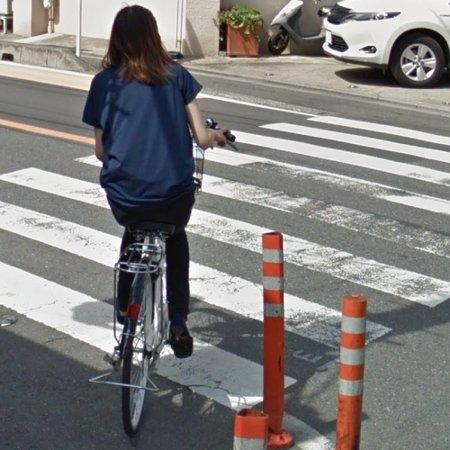crosswalks: (1, 114, 450, 450)
